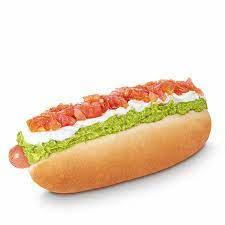Completos: (16, 73, 214, 199)
